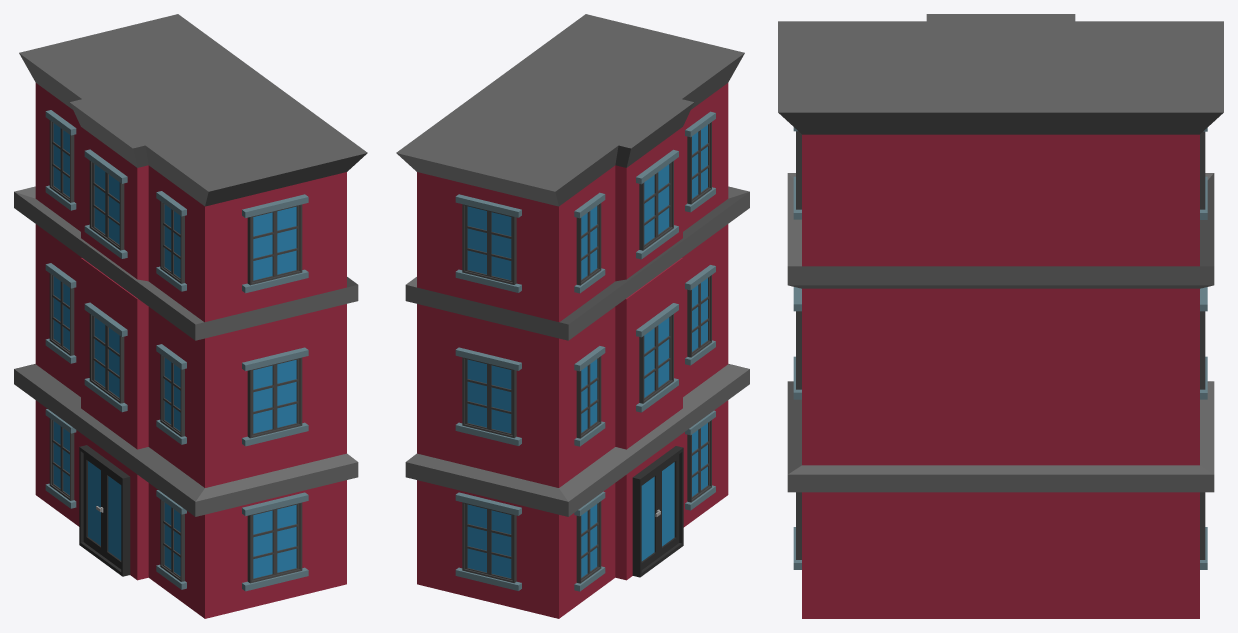
The model's file is Building2.fbx.
The picture shows the model from 3 angles, left to right: view 1: azimuth 30°, elevation 25°; view 2: azimuth 150°, elevation 25°; view 3: azimuth 270°, elevation 25°; orthographic projection. The views are drawn at different scales.
Visible parts, largest first — view 1: Cube.188, Cube.222, Cube.220, Cube.211, Cube.217, Cube.205, Cube.208, Cube.190, Cube.193, Cube.215, Cube.199, Cube.202 (+9 smaller); view 2: Cube.188, Cube.222, Cube.228, Cube.231, Cube.225, Cube.208, Cube.205, Cube.190, Cube.193, Cube.215, Cube.196, Cube.199 (+9 smaller); view 3: Cube.188.
Boxes of the visible parts, bbox=[...] form: Cube.188: bbox=[14, 14, 367, 618]; Cube.222: bbox=[79, 445, 130, 576]; Cube.220: bbox=[247, 502, 302, 583]; Cube.211: bbox=[247, 204, 302, 285]; Cube.217: bbox=[247, 357, 302, 438]; Cube.205: bbox=[89, 161, 124, 250]; Cube.208: bbox=[89, 314, 124, 403]; Cube.190: bbox=[49, 273, 74, 355]; Cube.193: bbox=[49, 418, 74, 500]; Cube.215: bbox=[49, 120, 74, 202]; Cube.199: bbox=[160, 354, 184, 436]; Cube.202: bbox=[160, 499, 184, 581]; Cube.188: bbox=[396, 14, 749, 618]; Cube.222: bbox=[632, 446, 683, 577]; Cube.228: bbox=[462, 357, 516, 438]; Cube.231: bbox=[462, 502, 516, 583]; Cube.225: bbox=[462, 204, 516, 284]; Cube.208: bbox=[639, 314, 673, 403]; Cube.205: bbox=[639, 161, 673, 250]; Cube.190: bbox=[576, 356, 601, 438]; Cube.193: bbox=[576, 501, 601, 583]; Cube.215: bbox=[576, 203, 601, 285]; Cube.196: bbox=[687, 122, 711, 204]; Cube.199: bbox=[687, 275, 711, 357]; Cube.188: bbox=[778, 14, 1223, 618].
Bounding box in the file's own units: 1263 × 3065 × 2417.
